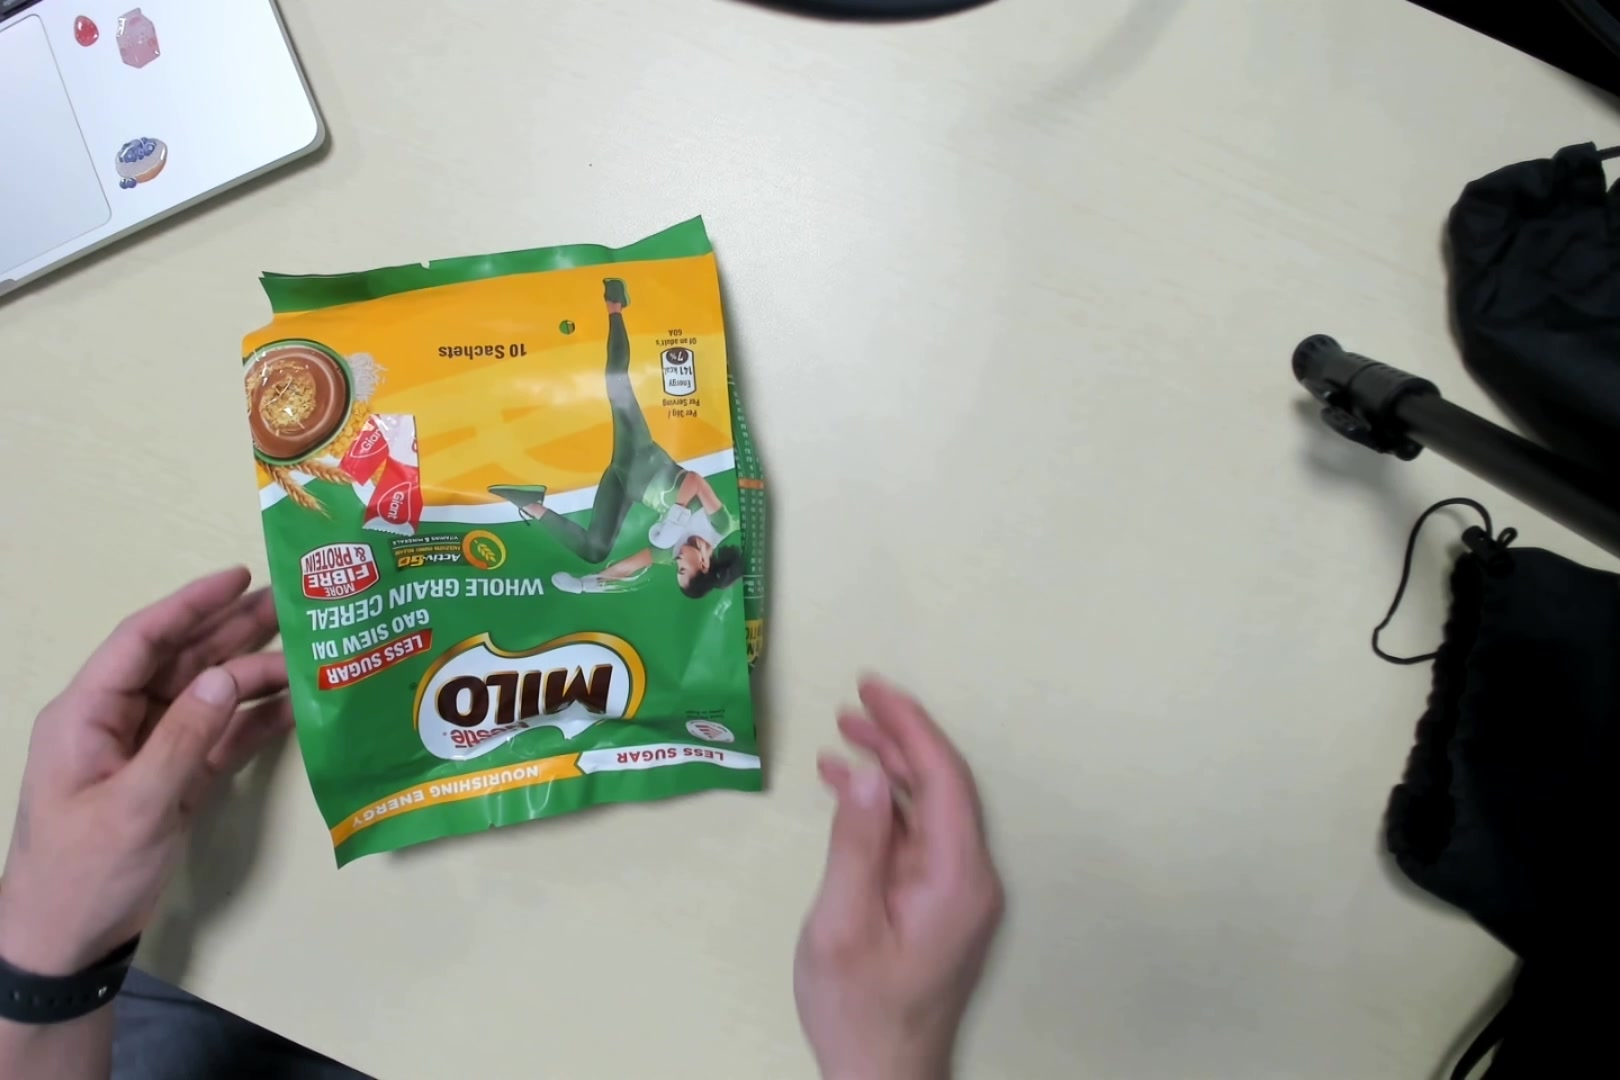ChocolateMaltPowder_300-399g_NonHalal_NonHealthy: (242, 268, 779, 811)
